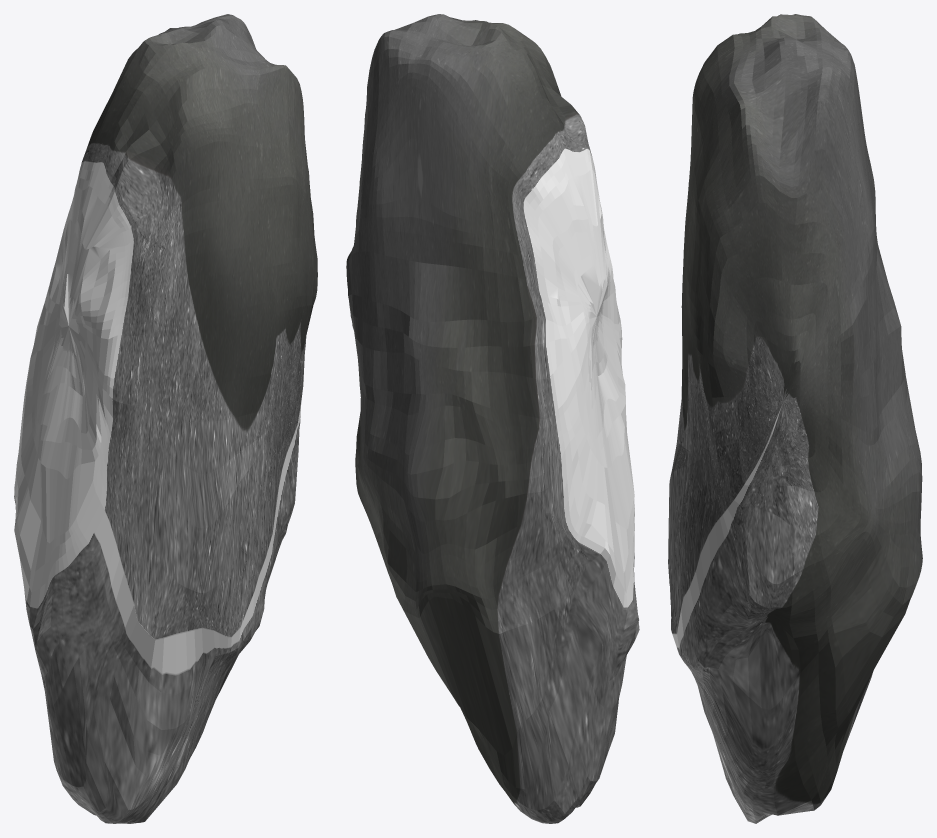
The model's file is dsbgfbn.fbx.
3 views of the same model, side by side, from view 1: azimuth 30°, elevation 25°; view 2: azimuth 150°, elevation 25°; view 3: azimuth 270°, elevation 25° (orthographic). The views are drawn at different scales.
Visible parts, largest first — view 1: rock:Group14; view 2: rock:Group14; view 3: rock:Group14.
Boxes of the visible parts, left/top/right/bottom form: rock:Group14: left=14, top=14, right=317, bottom=823; rock:Group14: left=346, top=14, right=639, bottom=823; rock:Group14: left=668, top=14, right=922, bottom=823.
Bounding box in the file's own units: 55.78 × 148 × 40.89.
